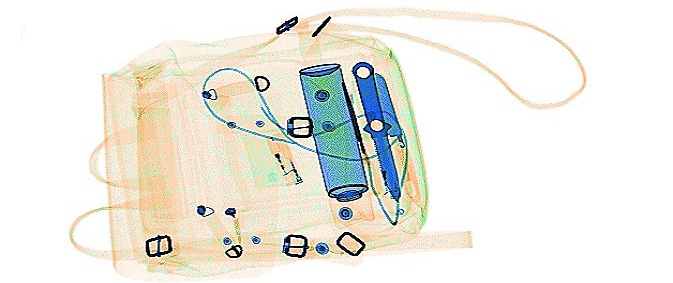knife: (344, 60, 398, 202), (369, 70, 418, 205), (339, 80, 382, 200)
lighter: (260, 131, 298, 187), (373, 160, 396, 218)
pressure: (294, 60, 370, 227)
